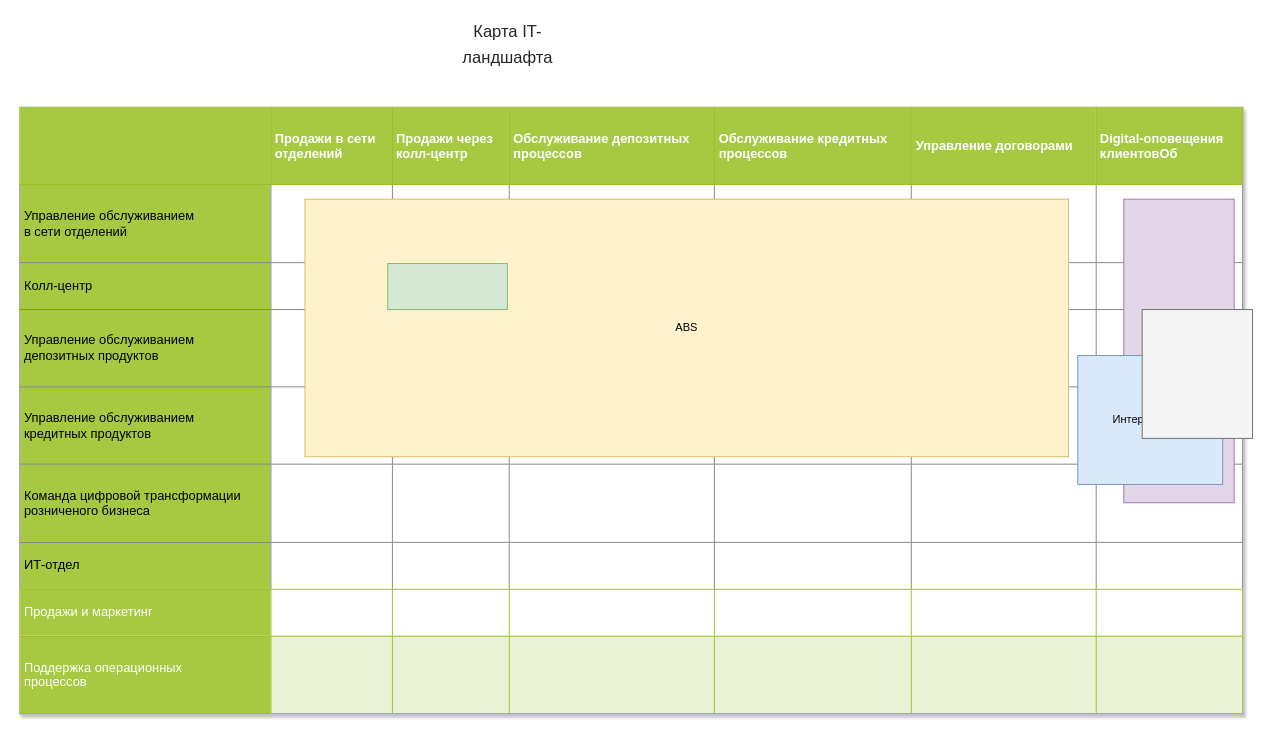
This 1269x737 diagram has some shape labels left out. Each missing label, with the centre of its shape:
СRM: (447,286)
Телеком-оператор/ СМС-шлюз телеком-оператора: (1197,373)
